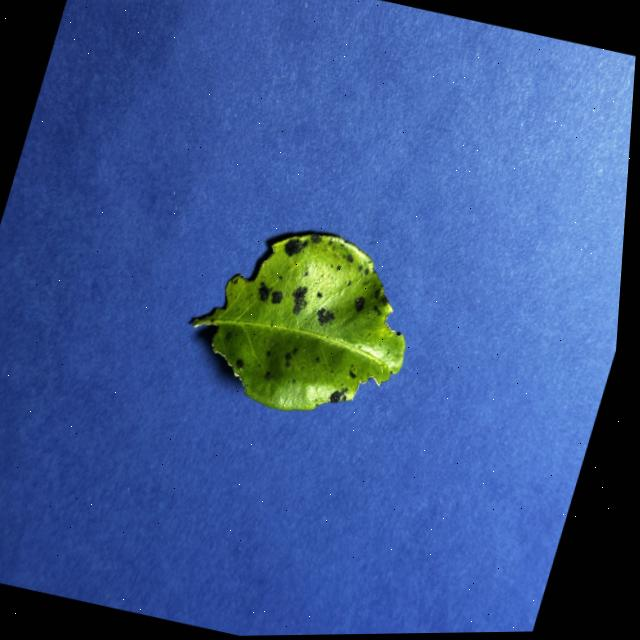sooty_mold: (193, 233, 403, 410)
